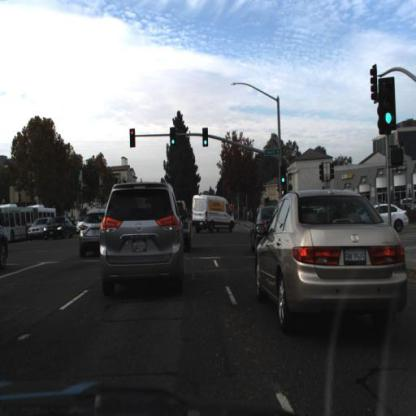car: (256, 186, 410, 331), (98, 178, 188, 305), (193, 195, 237, 235), (77, 206, 106, 261), (250, 206, 279, 256), (374, 202, 410, 233), (253, 203, 271, 252), (376, 205, 410, 230), (30, 211, 50, 242), (28, 219, 49, 239), (200, 208, 204, 220)
trafficLight: (381, 80, 402, 138), (201, 124, 211, 154), (168, 125, 178, 149), (280, 170, 288, 194), (128, 133, 137, 154), (170, 131, 178, 154), (202, 129, 210, 148)
truck: (2, 203, 38, 245), (34, 205, 61, 241)
